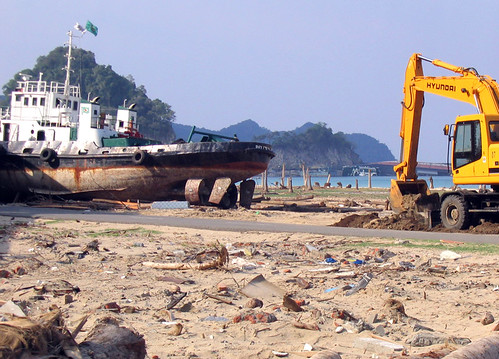beach: (7, 207, 487, 359)
boat: (1, 81, 271, 210)
excavator: (403, 60, 499, 231)
sky: (19, 1, 497, 124)
